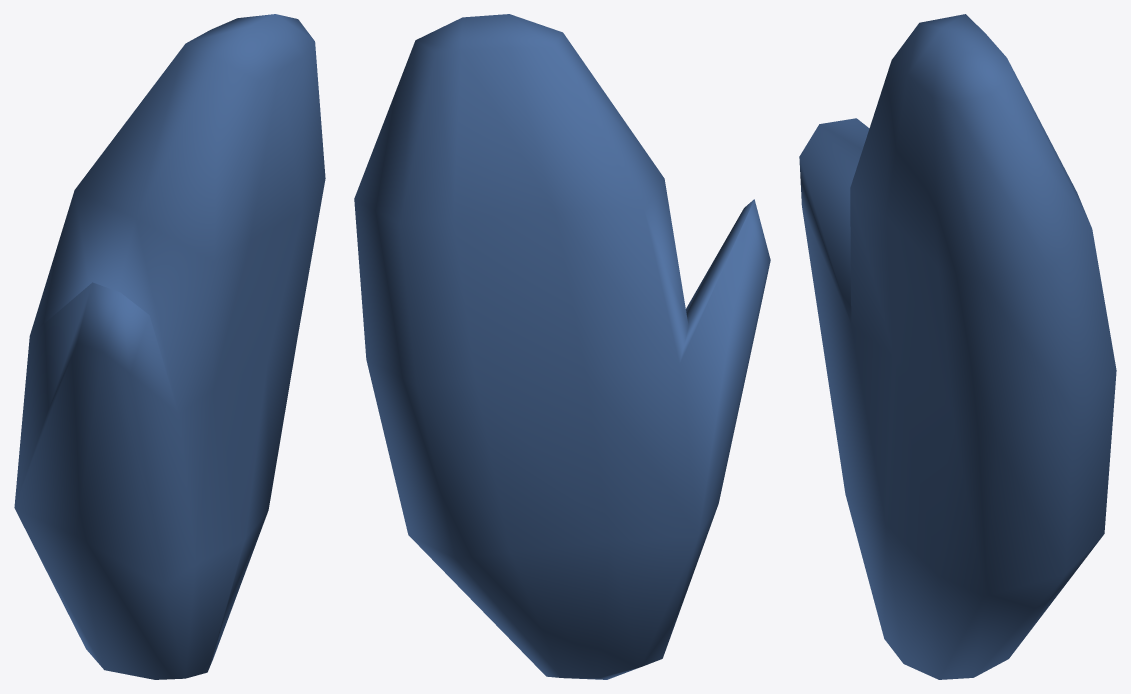
Rendered from hand r.fbx.
3 renders of one model, left to right at view 1: azimuth 30°, elevation 25°; view 2: azimuth 150°, elevation 25°; view 3: azimuth 270°, elevation 25°, orthographic. The views are drawn at different scales.
Visible parts, largest first — view 1: hand r; view 2: hand r; view 3: hand r.
Boxes of the visible parts, <box> form: hand r: <box>14,14,325,679</box>; hand r: <box>354,14,770,679</box>; hand r: <box>799,14,1116,679</box>.
Size of the model in its own units: 5.13 by 6.39 by 12.05.
